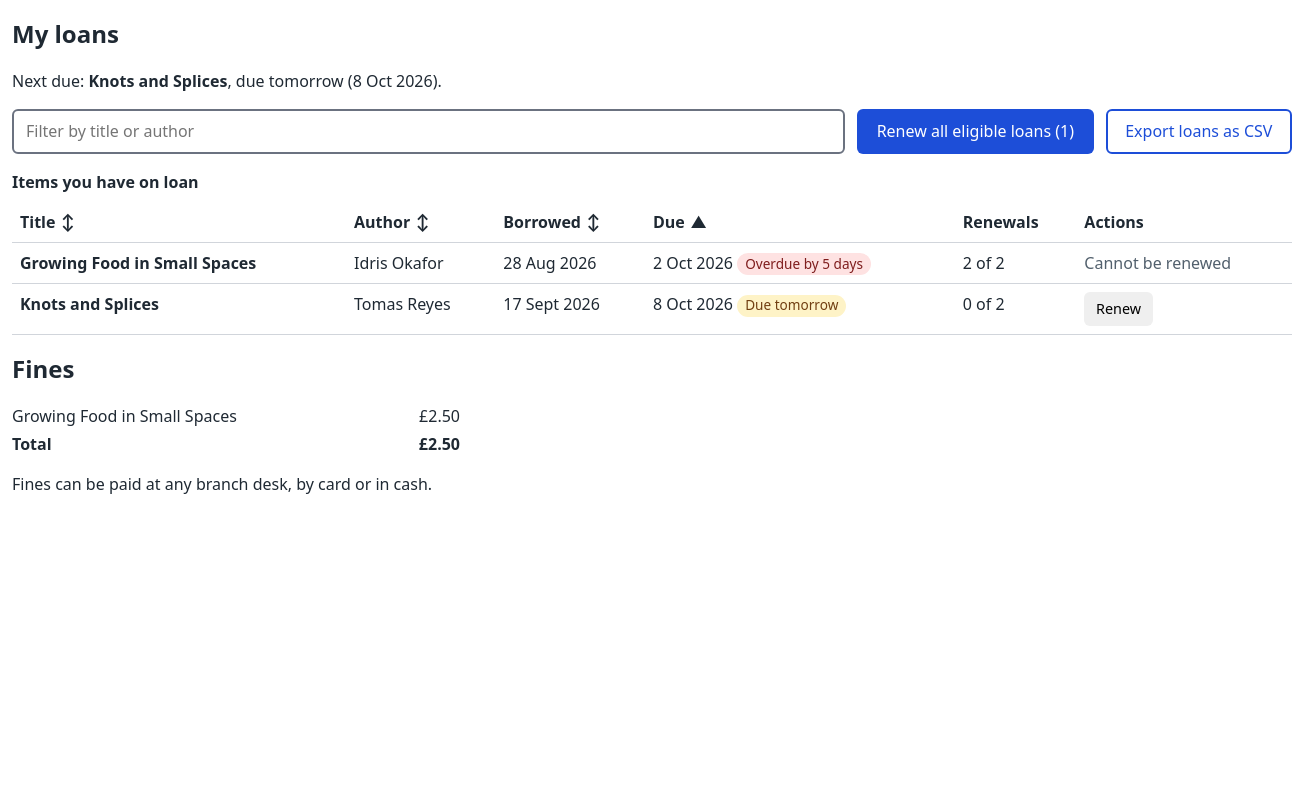
Test case: LoansPage › renews a single loan and reports the new due date
Click the button "Renew" at [1119, 309], box [1084,292,1153,326]
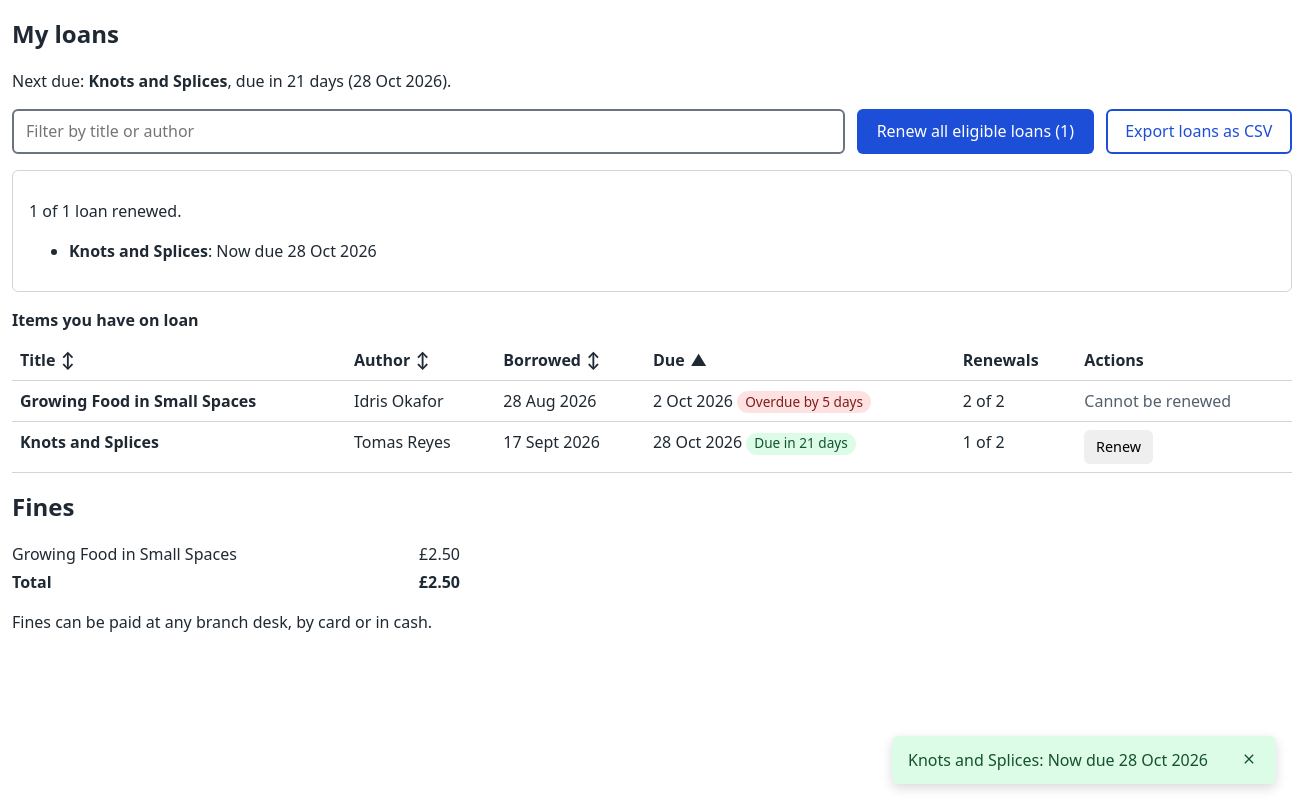
Expected: the text "1 of 1 loan renewed." is shown, [29,200,182,222]
Expected: the cell "1 of 2" is shown, [955,422,1076,472]
